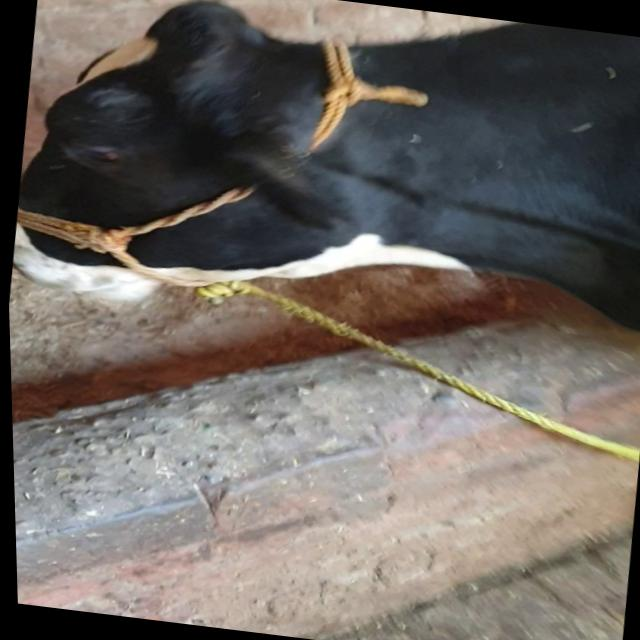cowFace: (0, 0, 316, 343)
